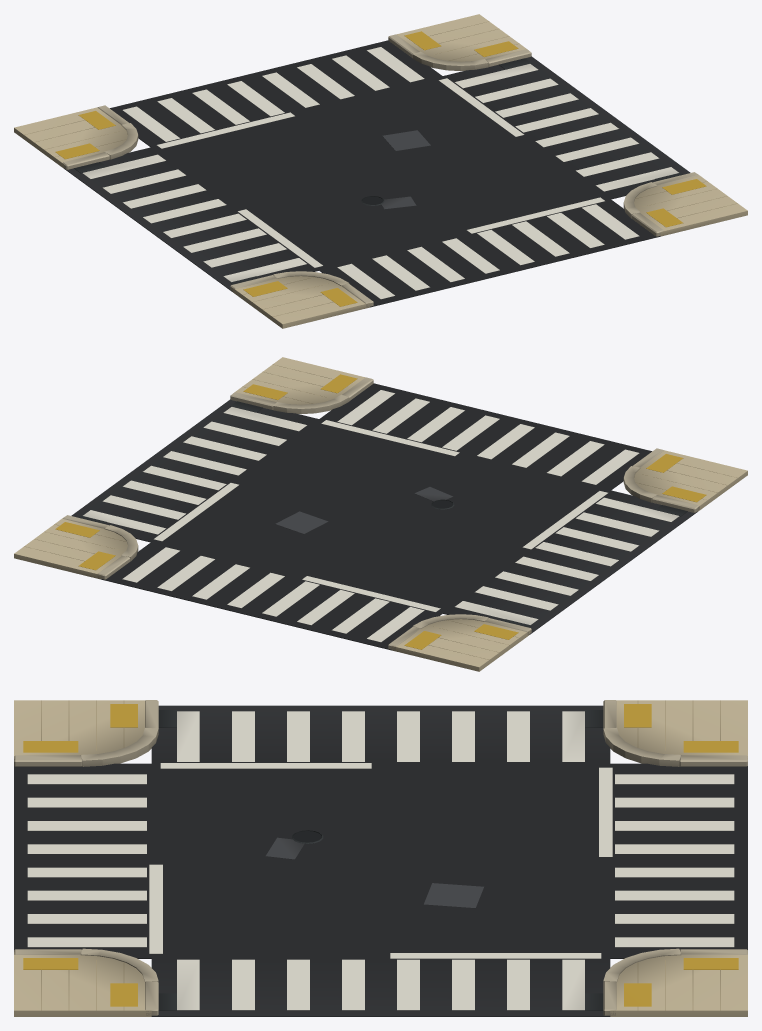
Rendered from jlm_road_cross.glb.
3 views of the same model, one above another, from view 1: azimuth 30°, elevation 25°; view 2: azimuth 150°, elevation 25°; view 3: azimuth 270°, elevation 25° (orthographic). The views are drawn at different scales.
Visible parts, largest first — view 1: jlm_road_cross; view 2: jlm_road_cross; view 3: jlm_road_cross.
Part boxes in pixels (x1,y1,x2,y2): jlm_road_cross: (14,14,747,328); jlm_road_cross: (14,357,747,671); jlm_road_cross: (14,700,747,1016).
Size of the model in its own units: 16 by 0.17 by 16.
